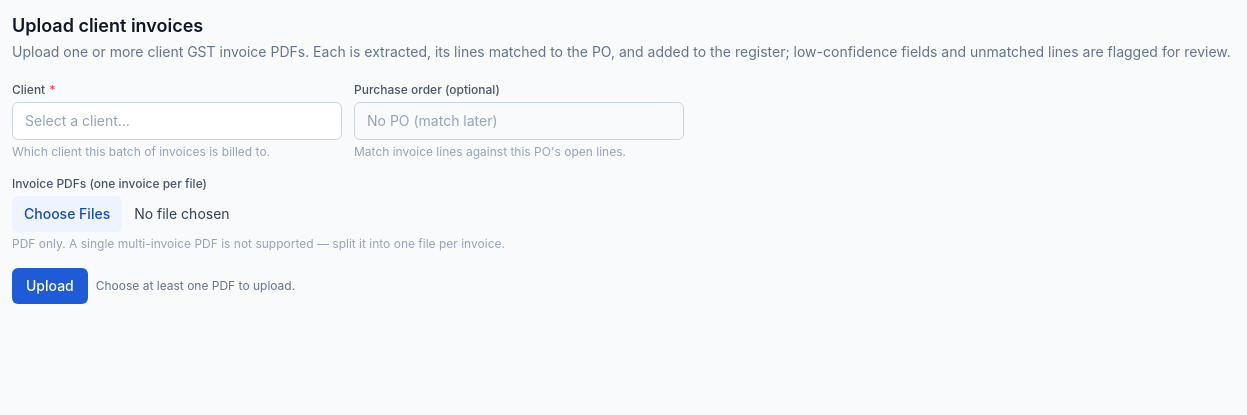
Scenario: InvoiceUpload › hides the Project picker once a PO is selected (the PO carries the project)
This screenshot has width=1247, height=415.
Focus the dropdown labelled "Client *": (177, 121) [12,102,342,140]
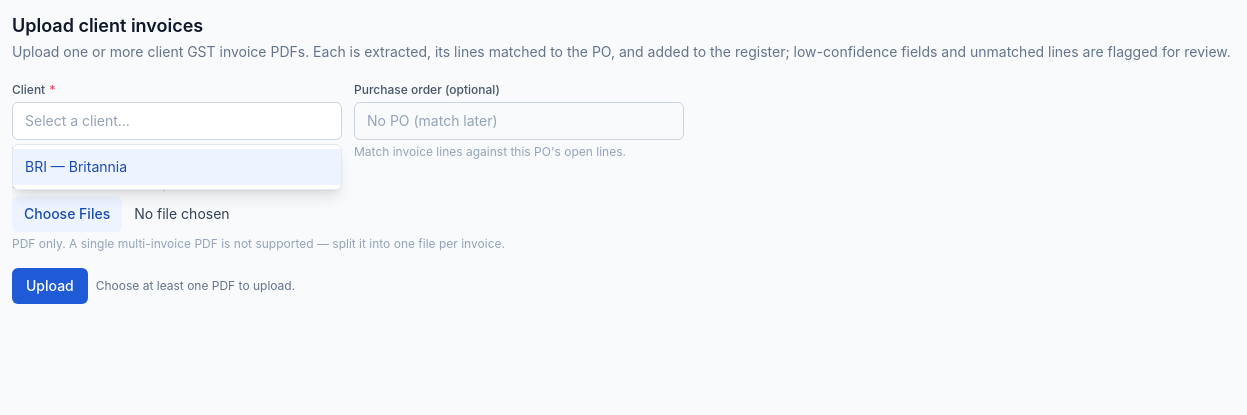
Press the mouse on the option "BRI — Britannia": (76, 166) [13,149,341,185]
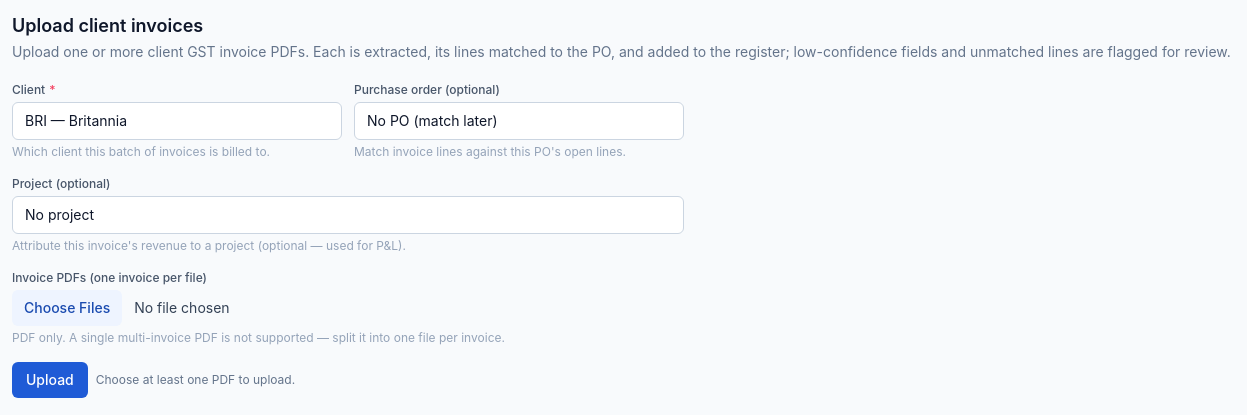
Result: the dropdown labelled "Project (optional)" is shown at [12,196,684,234]
Result: the dropdown labelled "Purchase order (optional)" is enabled
Focus the dropdown labelled "Purchase order (optional)": (519, 121) [354,102,684,140]
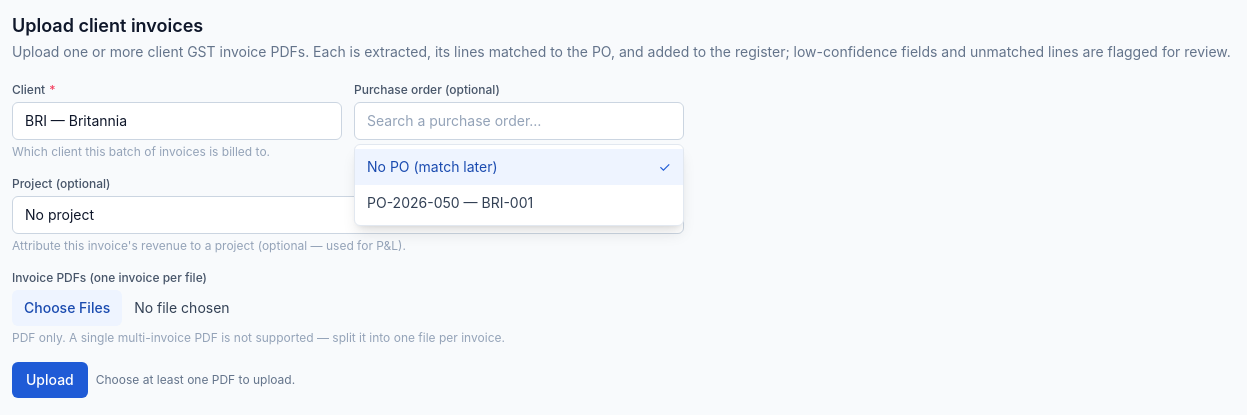
Press the mouse on the option "PO-2026-050 — BRI-001": (450, 202) [367,194,533,211]
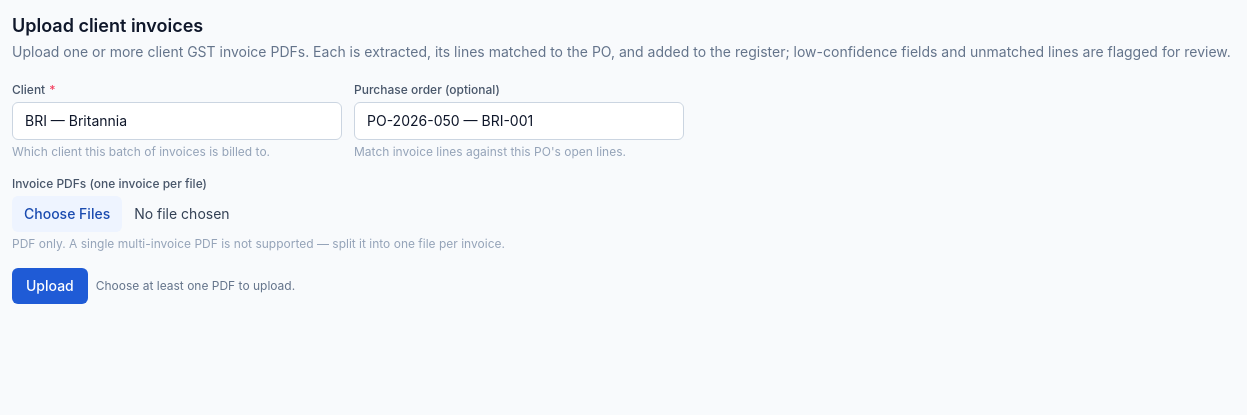
Result: the label labelled "Project" is gone
